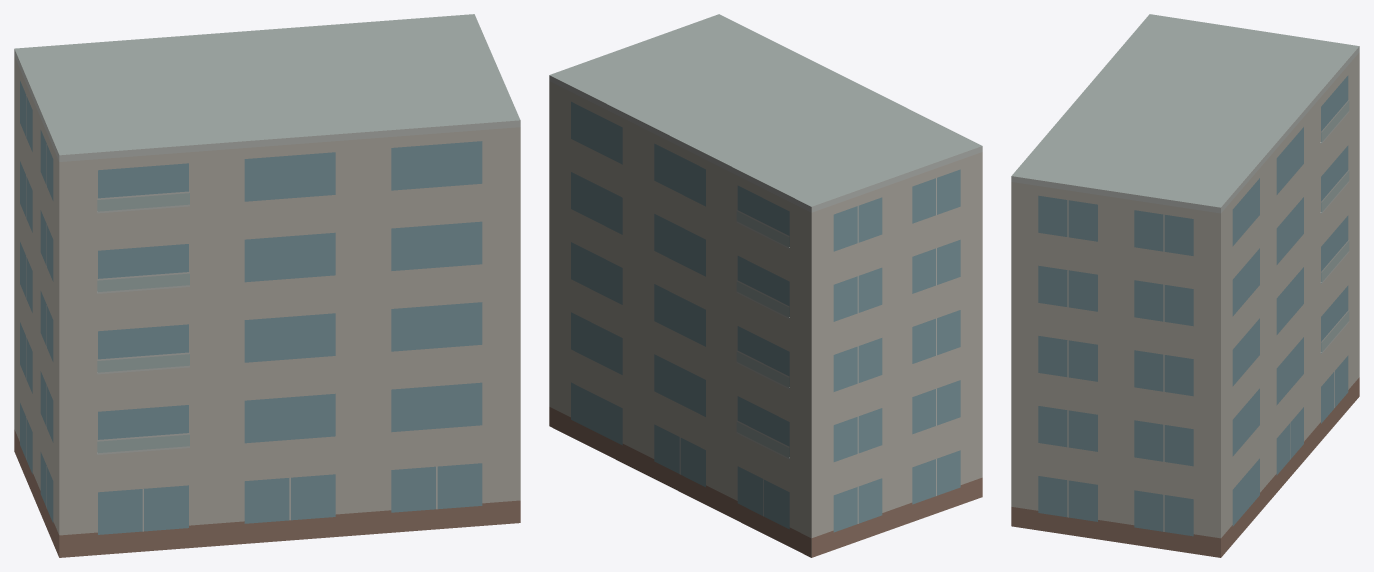
Rendered from survey-upis-32894453.glb.
3 renders of one model, left to right at view 1: azimuth 30°, elevation 25°; view 2: azimuth 150°, elevation 25°; view 3: azimuth 270°, elevation 25°, orthographic. The views are drawn at different scales.
Visible parts, largest first — view 1: survey-upis-32894453.tmp; view 2: survey-upis-32894453.tmp; view 3: survey-upis-32894453.tmp.
Boxes of the visible parts, bbox=[...] form: survey-upis-32894453.tmp: bbox=[14, 14, 520, 557]; survey-upis-32894453.tmp: bbox=[549, 14, 982, 557]; survey-upis-32894453.tmp: bbox=[1011, 14, 1359, 557].
Size of the model in its own units: 17.2 by 14.5 by 13.08.
